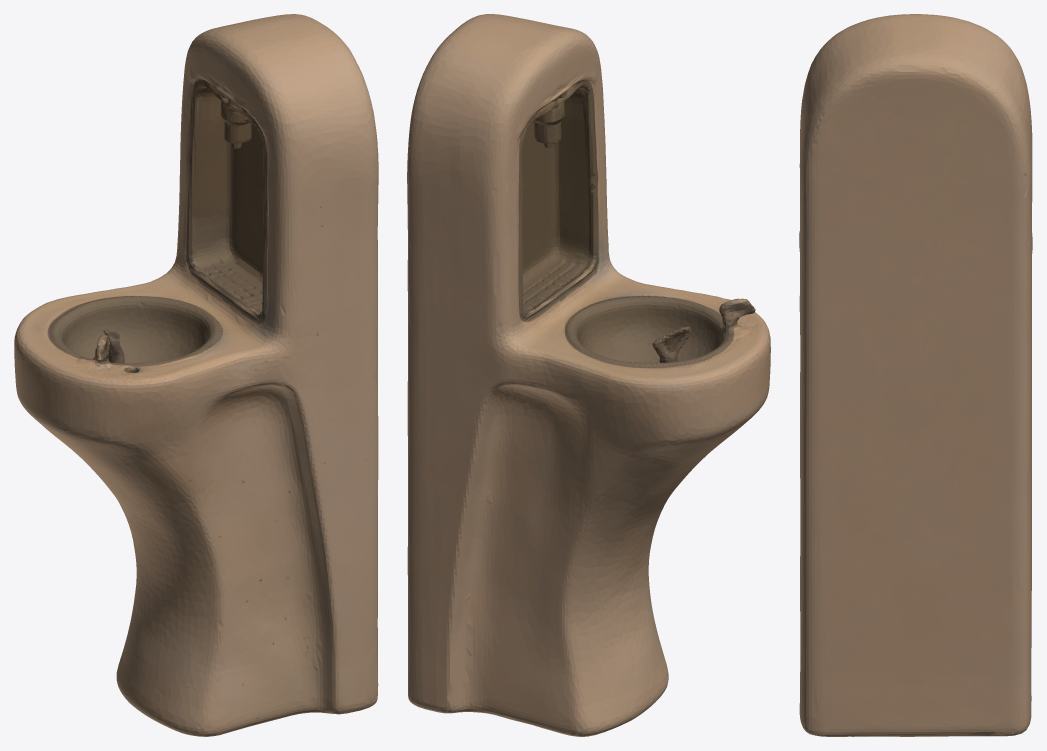
Rendered from drinking-fountain.glb.
3 views of the same model, side by side, from view 1: azimuth 30°, elevation 25°; view 2: azimuth 150°, elevation 25°; view 3: azimuth 270°, elevation 25° (orthographic). The views are drawn at different scales.
Visible parts, largest first — view 1: textured_mesh.obj; view 2: textured_mesh.obj; view 3: textured_mesh.obj.
Boxes of the visible parts, left/top/right/bottom form: textured_mesh.obj: left=14, top=14, right=378, bottom=736; textured_mesh.obj: left=407, top=14, right=770, bottom=736; textured_mesh.obj: left=799, top=14, right=1032, bottom=736.
Bounding box in the file's own units: 0.527 × 1.1 × 0.3417.
Materials: 1 (1 with a texture image).
